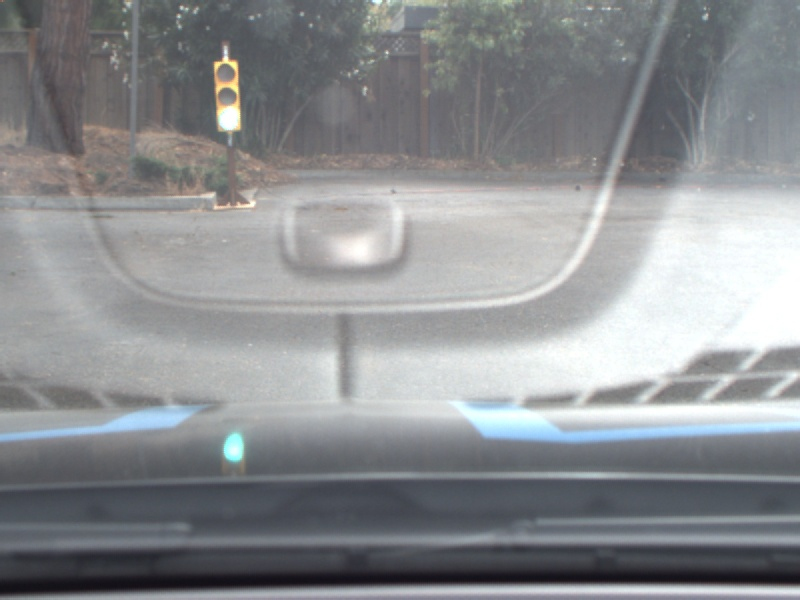green: (206, 55, 246, 135)
